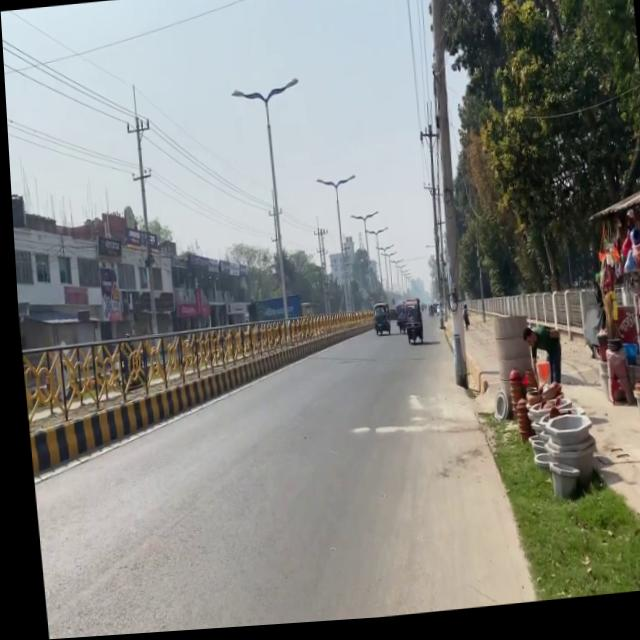Construction-barrier: (436, 304, 529, 612), (466, 411, 530, 611), (438, 308, 464, 394)
Dog: (499, 365, 595, 512)
Fallen-tree: (397, 303, 419, 351), (367, 306, 386, 342), (422, 308, 433, 324)
Garbage-bin: (516, 328, 559, 394), (598, 345, 630, 416), (456, 309, 465, 335)
Light-pole: (413, 0, 473, 394), (121, 83, 165, 352)
Pole: (16, 313, 254, 487)
Pothole: (453, 293, 640, 594)
